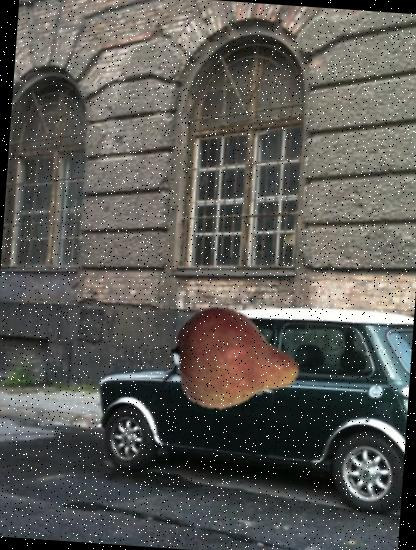Pear: (166, 286, 309, 430)
